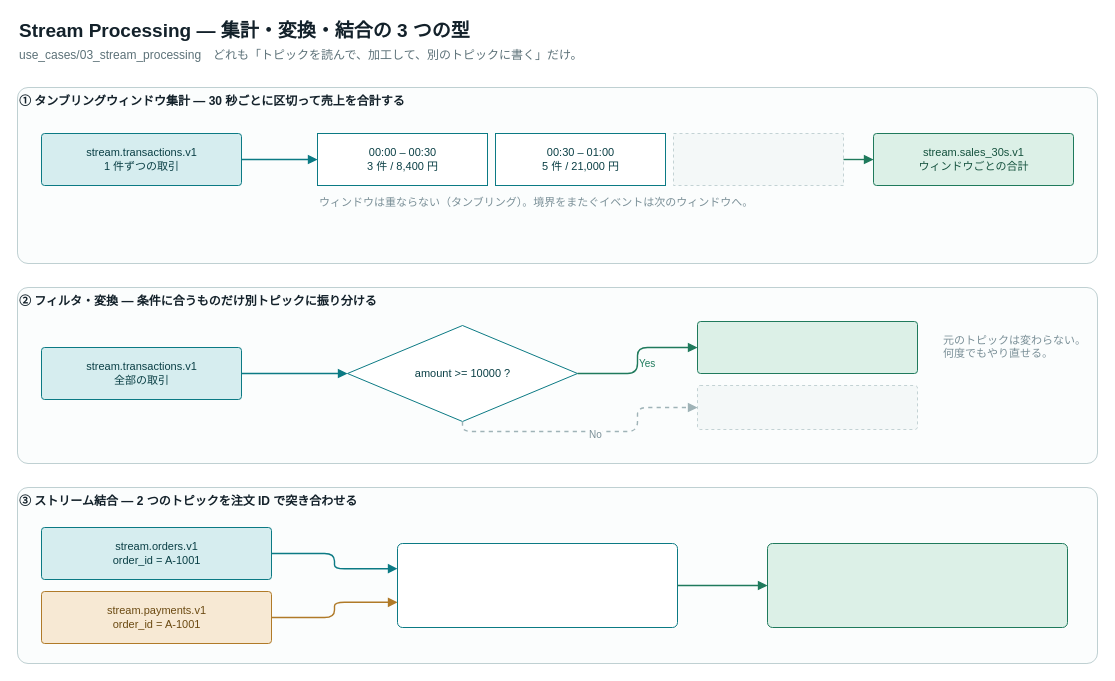
Image size: 1115x681. Some labels were removed from this diagram. The shapes that lost their labels are listed below. From the top down, each one's centre as x and y in pixels, then its label:
At point (758, 159): "01:00 – 01:30 集計中…".
At point (807, 347): "stream.high_value.v1 高額取引だけ".
At point (807, 407): "捨てる（何も書かない）".
At point (537, 585): "join order_id が同じで、かつ 一定時間内に届いたもの同士".
At point (917, 585): "注文 + 支払いが揃ったイベント → 出荷指示を出せる".
